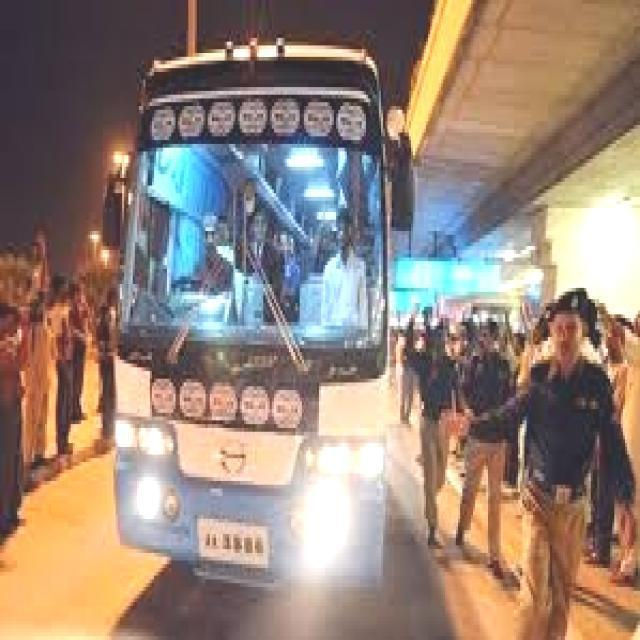Bus: (92, 26, 435, 615)
